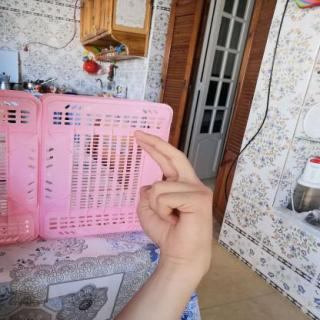ZAY: (124, 124, 223, 270)
